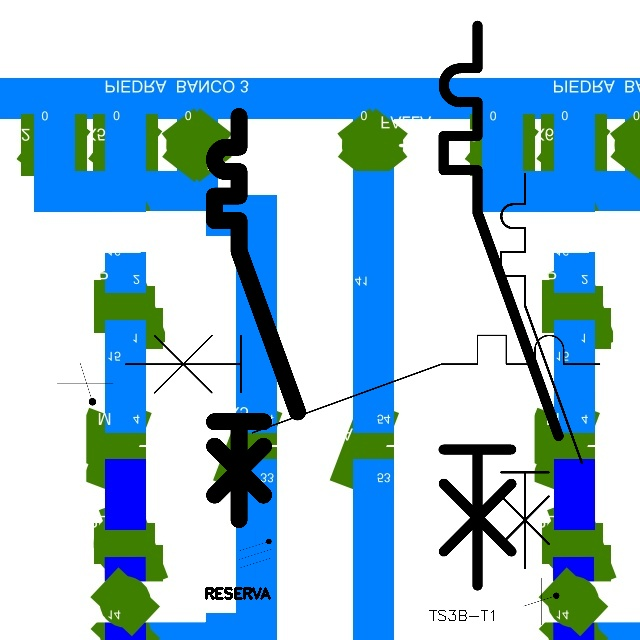interruptor_termomagnetico: (429, 11, 573, 600), (113, 323, 612, 445), (204, 106, 307, 530), (491, 164, 592, 578)
